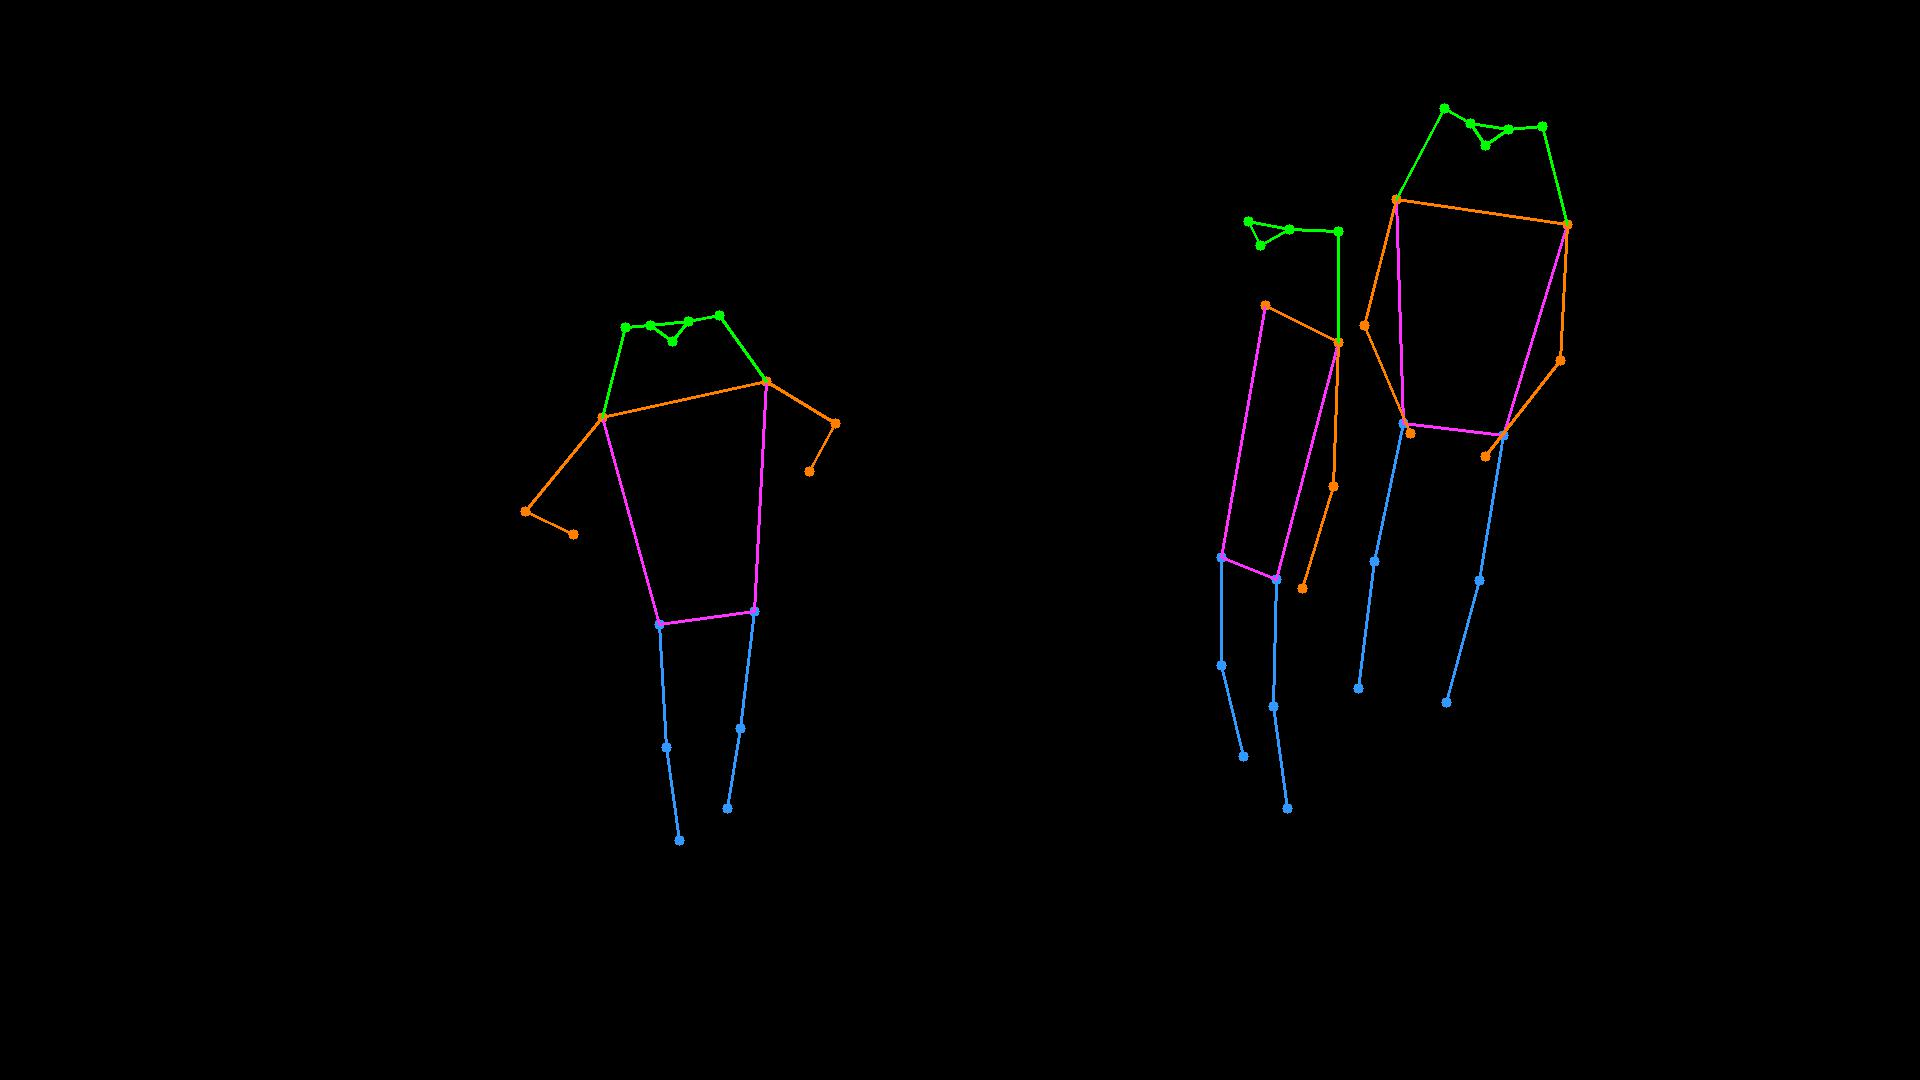normal: (1182, 69, 1642, 865), (479, 266, 870, 899)
